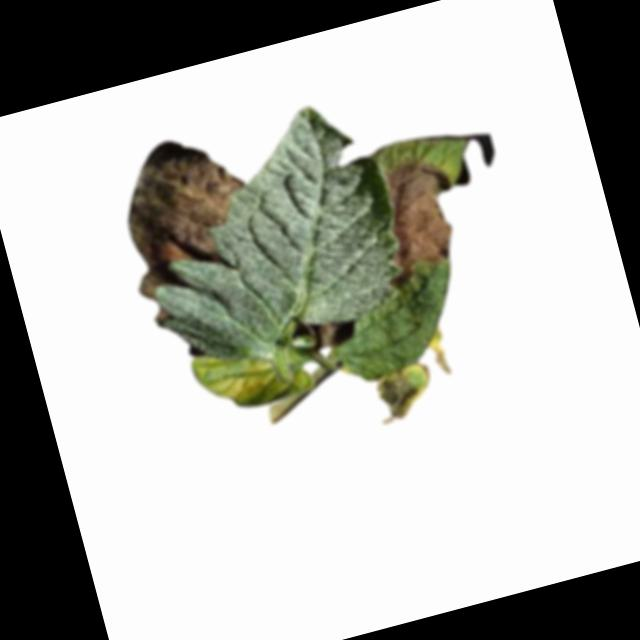Late_blight: (103, 124, 274, 325), (362, 152, 473, 290), (370, 358, 439, 426), (313, 316, 364, 351), (424, 326, 455, 378)
healthy: (115, 90, 420, 383)
